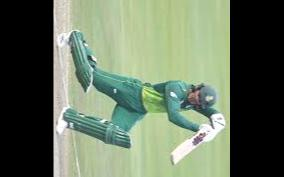batsman: (58, 26, 225, 170)
